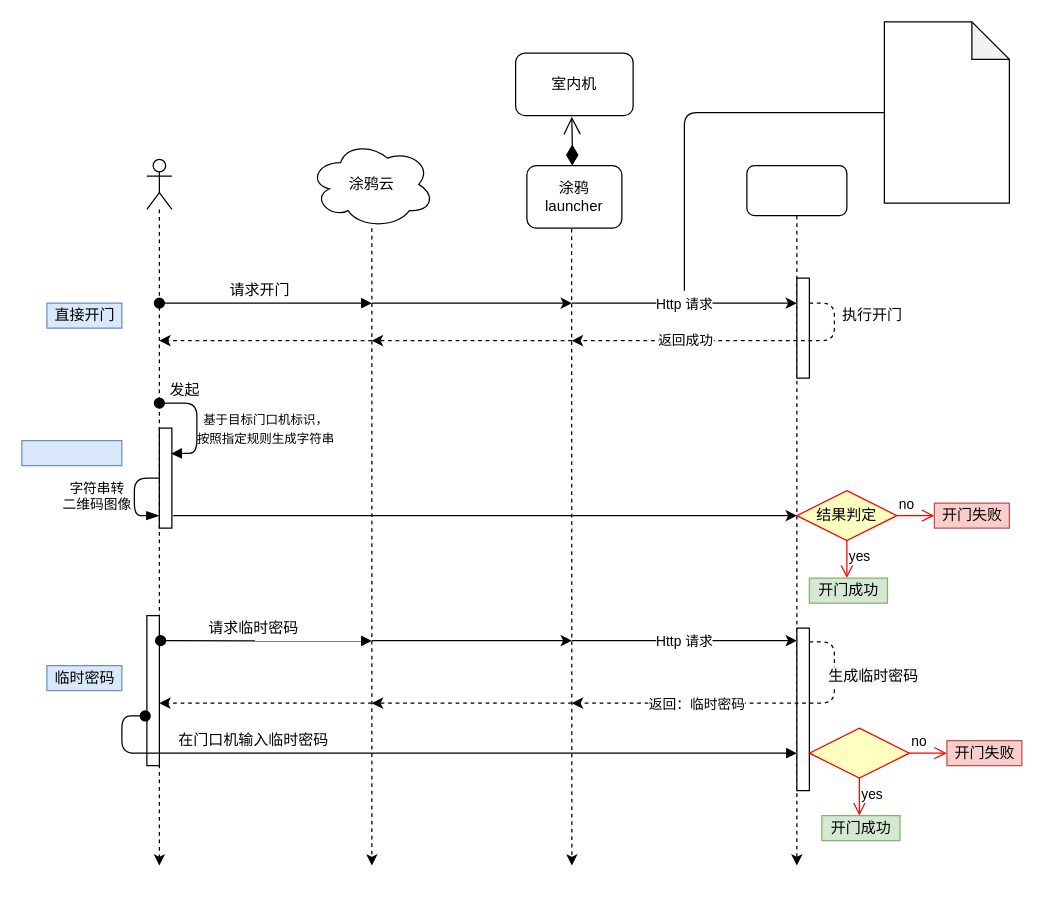
Image size: 1044x898. Some labels were removed from this diagram. Here are the shapes that lost their labels. From the top down, the centre of each, then its label:
the point at 946,112: Http请求: 开门操作均指向具体门口机，门口机标识、ip信息通过通过门口机设备列表获取
the point at 159,183: 用户/APP
the point at 796,190: 门口机
the point at 71,452: 二维码开门
the point at 858,752: 密码校验
